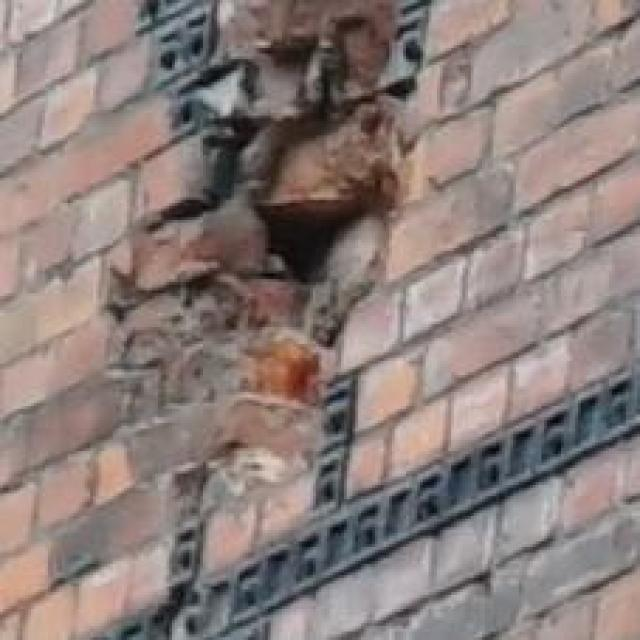Crack: (79, 5, 474, 514)
